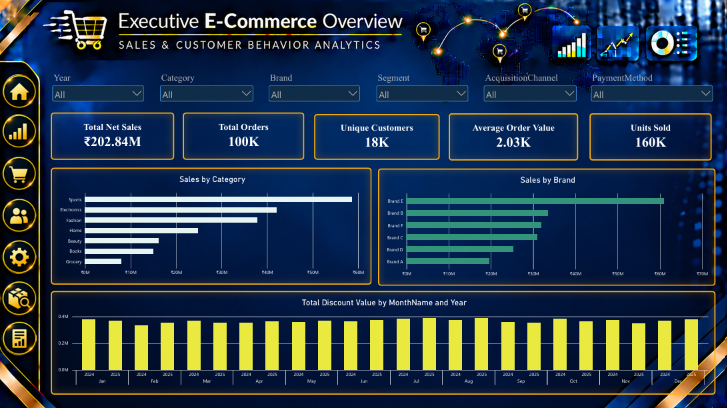

What the dashboard file says about the page in this screenshot:
{"tool":"powerbi","page":{"name":"Executive E-Commerce Overview - 2","canvas":[1920,1080],"ordinal":1},"visuals":[{"type":"cardVisual","fields":{"Data":["Measures Table.Total Net Sales"]},"box":[136,297.7,323.5,124.3],"z":0},{"type":"cardVisual","fields":{"Data":["Measures Table.Units Sold"]},"box":[1552,300.1,321.2,124.3],"z":1000},{"type":"cardVisual","fields":{"Data":["Measures Table.Average Order Value"]},"box":[1181.6,300.1,339.9,124.3],"z":2000},{"type":"cardVisual","fields":{"Data":["Measures Table.Unique Customers"]},"box":[827.6,302.4,330.6,119.6],"z":3000},{"type":"cardVisual","fields":{"Data":["Measures Table.Total Orders"]},"box":[483,297.7,318.8,124.3],"z":4000},{"type":"clusteredColumnChart","fields":{"Category":["Dim_Date.MonthName","Dim_Date.Year"],"Y":["Measures Table.Total Discount Value"]},"box":[136,766.6,1746.6,272],"z":5000},{"type":"clusteredBarChart","title":"Sales by Category","fields":{"Category":["Dim_Product.Category"],"Y":["Measures Table.Total Net Sales"]},"box":[136,443,843,307],"z":6000},{"type":"clusteredBarChart","title":"Sales by Brand","fields":{"Category":["Dim_Product.Brand"],"Y":["Measures Table.Total Net Sales"]},"box":[996.4,445.5,886.2,307.1],"z":7000},{"type":"slicer","title":"123","fields":{"Values":["Dim_Date.Year"]},"box":[135,192.5,250,97.5],"z":8000},{"type":"slicer","fields":{"Values":["Dim_Product.Category"]},"box":[418.1,192.5,254.4,96.9],"z":9000},{"type":"slicer","fields":{"Values":["Dim_Product.Brand"]},"box":[703.8,192.5,249.4,96.9],"z":10000},{"type":"slicer","fields":{"Values":["Dim_Customer.Segment"]},"box":[986.9,192.5,250.6,96.9],"z":11000},{"type":"slicer","fields":{"Values":["Fact_EcommerceSales.PaymentMethod"]},"box":[1551.2,192.5,330,96.9],"z":12000},{"type":"slicer","fields":{"Values":["Dim_Customer.AcquisitionChannel"]},"box":[1269.4,192.5,253.1,96.9],"z":13000},{"type":"image","box":[6,192.7,90.7,99.3],"z":14000},{"type":"image","box":[6,840.7,90.7,99.3],"z":15000},{"type":"image","box":[6,296.7,90.7,99.3],"z":16000},{"type":"image","box":[4.4,735.6,97.5,99.4],"z":17000},{"type":"image","box":[6,408,90.7,99.3],"z":18000},{"type":"image","box":[6,518,90.7,99.3],"z":19000},{"type":"image","box":[6,624,90.7,104.7],"z":20000}]}

Visuals, with their boxes in screenshot pixels (x1, y1, x2, y2), scaled from the page's 1920x1080 canvas onto the 727x408 screenshot:
cardVisual - Measures Table.Total Net Sales: [51,112,174,159]
cardVisual - Measures Table.Units Sold: [588,113,709,160]
cardVisual - Measures Table.Average Order Value: [447,113,576,160]
cardVisual - Measures Table.Unique Customers: [313,114,439,159]
cardVisual - Measures Table.Total Orders: [183,112,304,159]
clusteredColumnChart - Dim_Date.MonthName x Dim_Date.Year: [51,290,713,392]
"Sales by Category" clusteredBarChart: [51,167,371,283]
"Sales by Brand" clusteredBarChart: [377,168,713,284]
"123" slicer: [51,73,146,110]
slicer - Dim_Product.Category: [158,73,255,109]
slicer - Dim_Product.Brand: [266,73,361,109]
slicer - Dim_Customer.Segment: [374,73,469,109]
slicer - Fact_EcommerceSales.PaymentMethod: [587,73,712,109]
slicer - Dim_Customer.AcquisitionChannel: [481,73,576,109]
image: [2,73,37,110]
image: [2,318,37,355]
image: [2,112,37,150]
image: [2,278,39,315]
image: [2,154,37,192]
image: [2,196,37,233]
image: [2,236,37,275]
